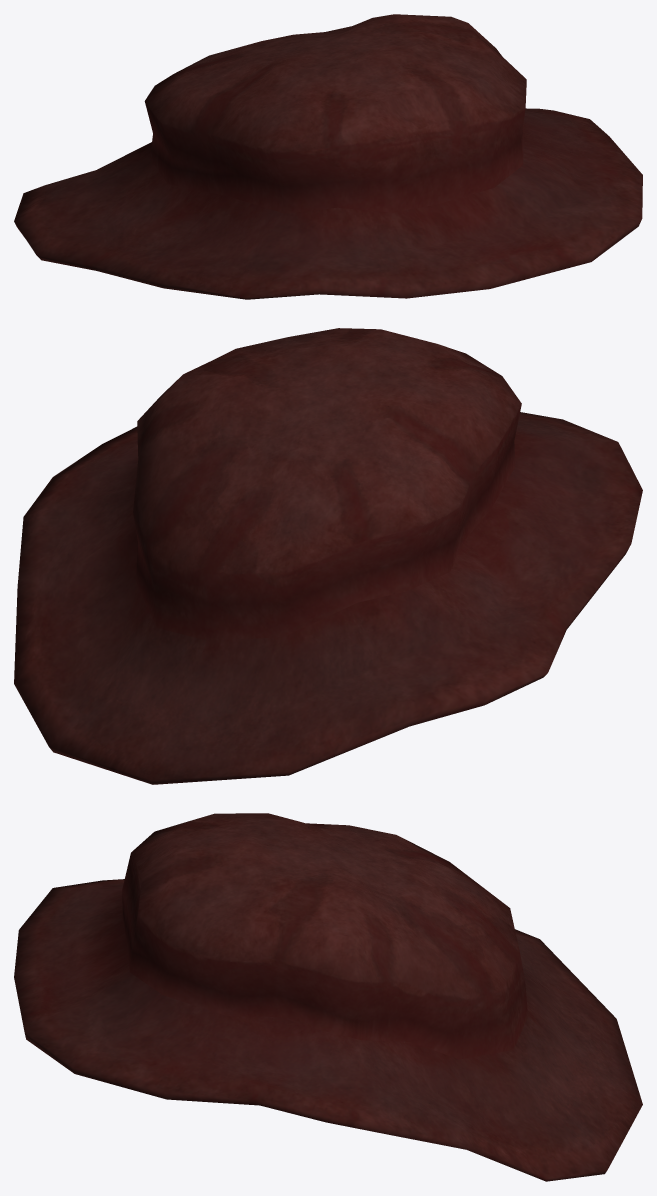
File: FarmerHat_LODG.fbx
3 renders of one model, top to bottom at view 1: azimuth 30°, elevation 25°; view 2: azimuth 150°, elevation 25°; view 3: azimuth 270°, elevation 25°, orthographic. The views are drawn at different scales.
Parts seen in each view (by area): view 1: FarmerHat_LOD0; view 2: FarmerHat_LOD0; view 3: FarmerHat_LOD0.
Boxes of the visible parts, left/top/right/bottom form: FarmerHat_LOD0: left=14, top=14, right=642, bottom=299; FarmerHat_LOD0: left=14, top=328, right=642, bottom=784; FarmerHat_LOD0: left=14, top=813, right=642, bottom=1181.
Size of what is drawn, in the model's own units: 35.38 by 18.51 by 37.91.
